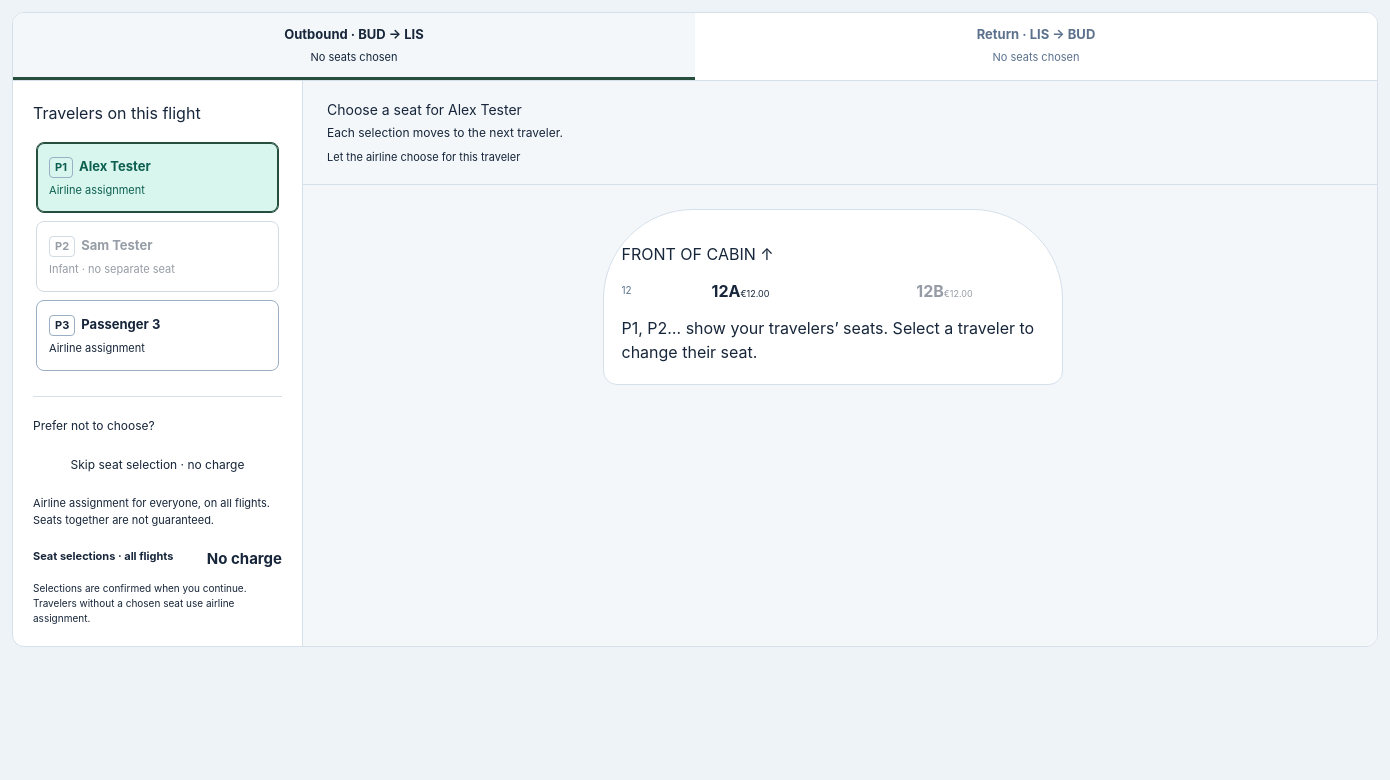
Scenario: skips infants and travelers without eligible inventory when advancing
Expected: the button "P2 Sam Tester Infant · no separate seat" is disabled, [36,221,279,292]
Expected: the button "P2 Sam Tester Infant · no separate seat" is shown, [36,221,279,292]
Click the button "12A€12.00" at (740, 291), box [642,266,840,316]
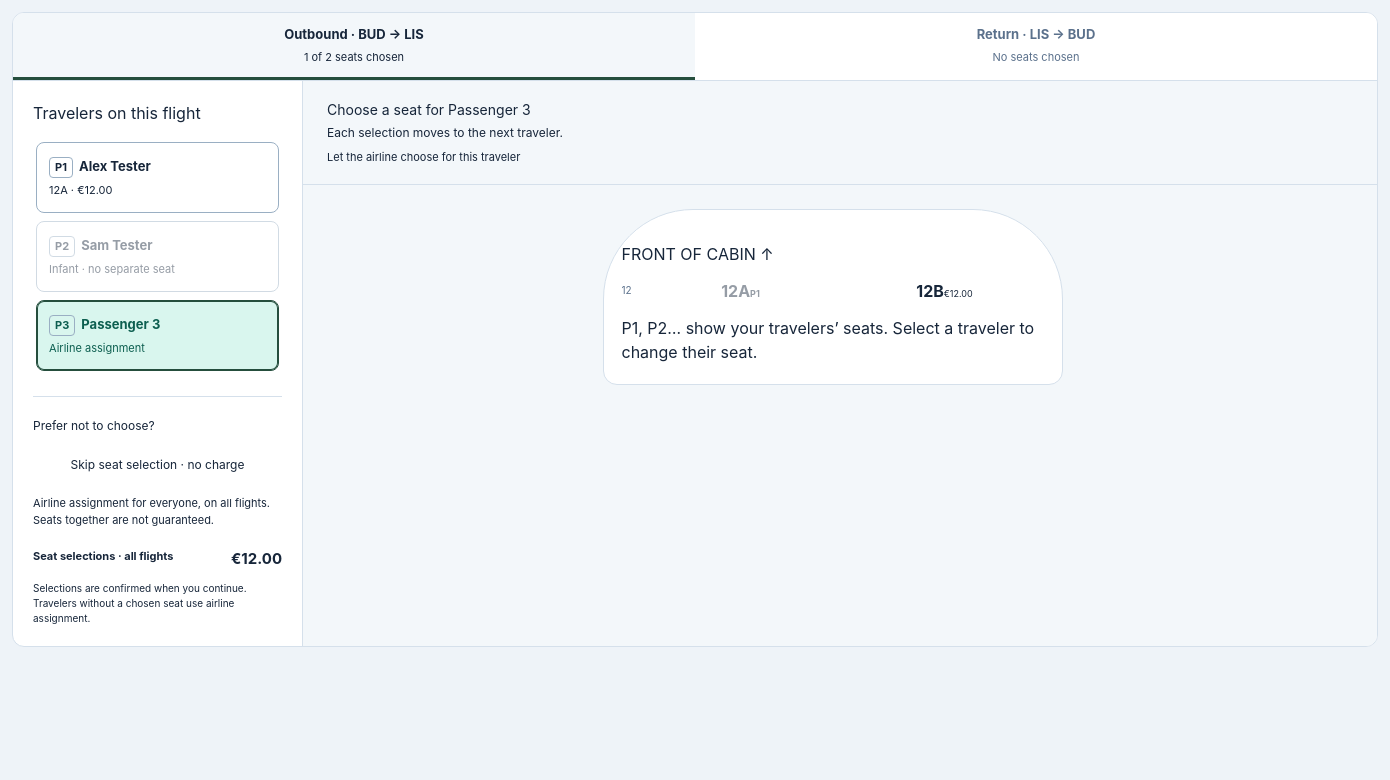
Now the button "P3 Passenger 3 Airline assignment" is pressed, box [36,300,279,371]
Click the button "12B€12.00" at (944, 291), box [846,266,1044,316]
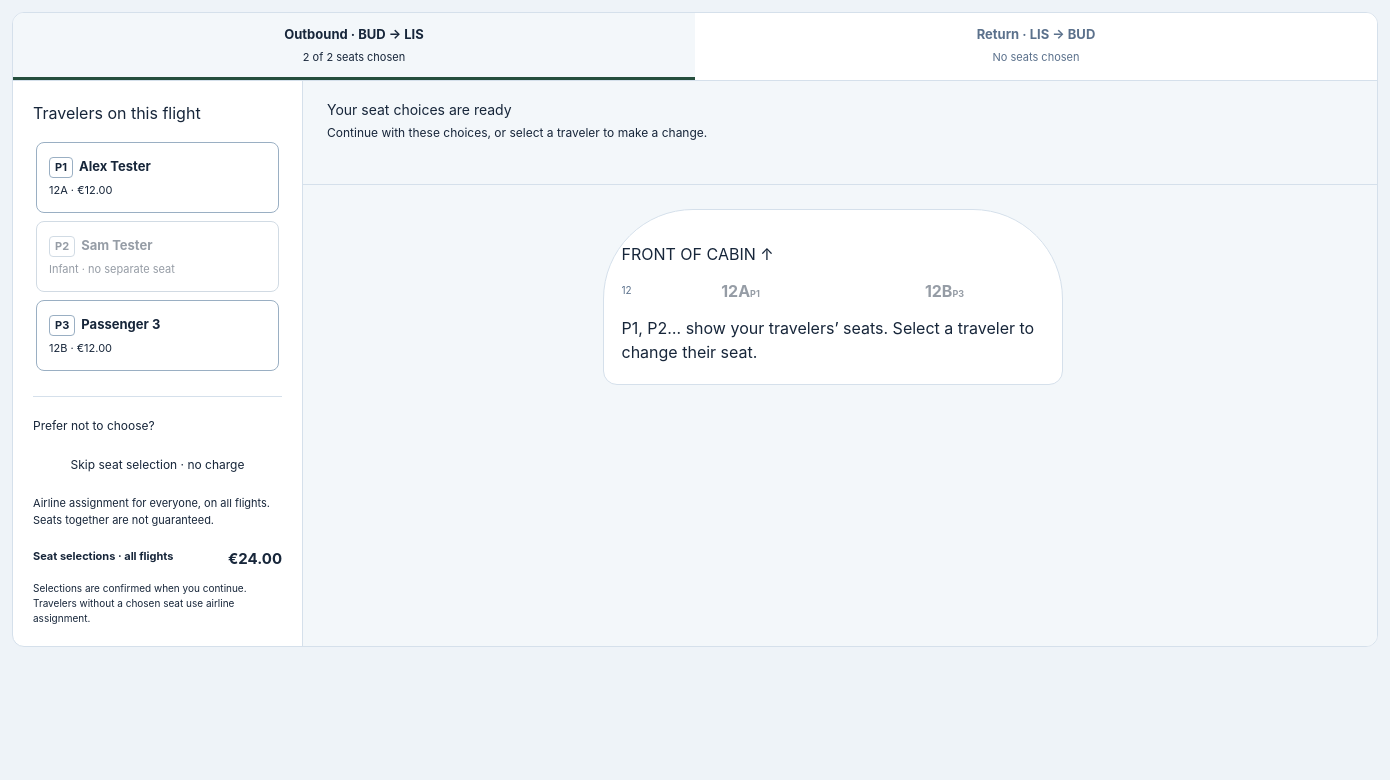
Now the heading "Your seat choices are ready" is shown, box [327,101,512,118]
